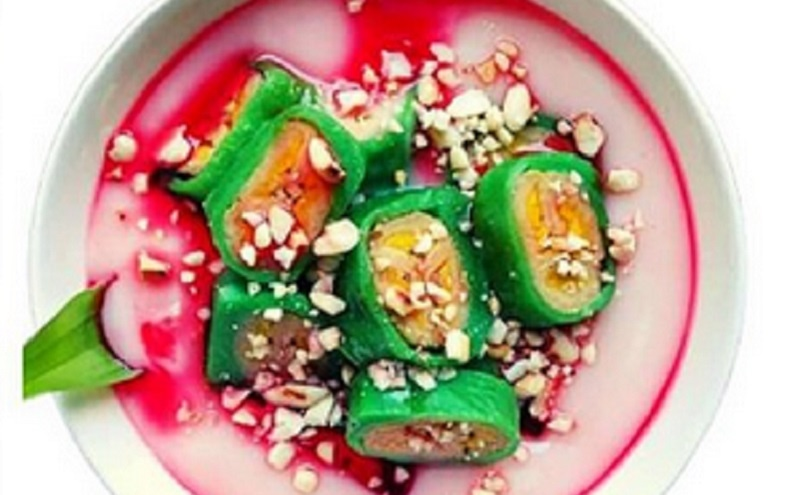pisang_ijo: (479, 155, 630, 321)
